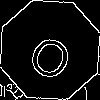O: (25, 25, 79, 84)
